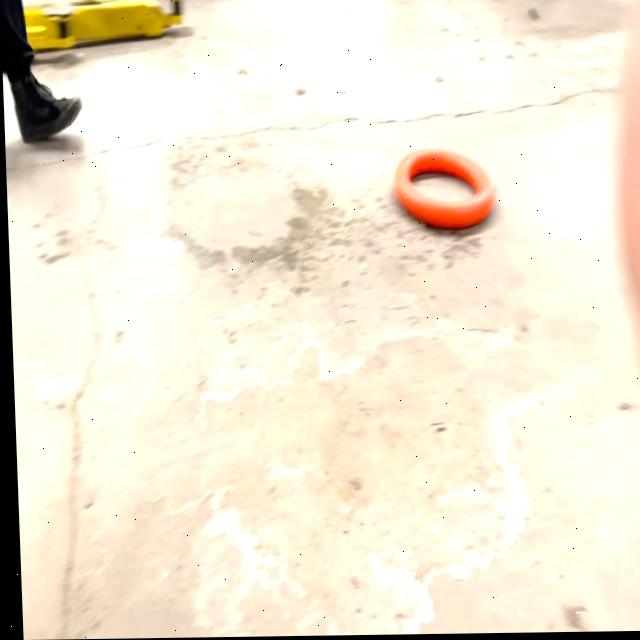note: (390, 143, 492, 232)
